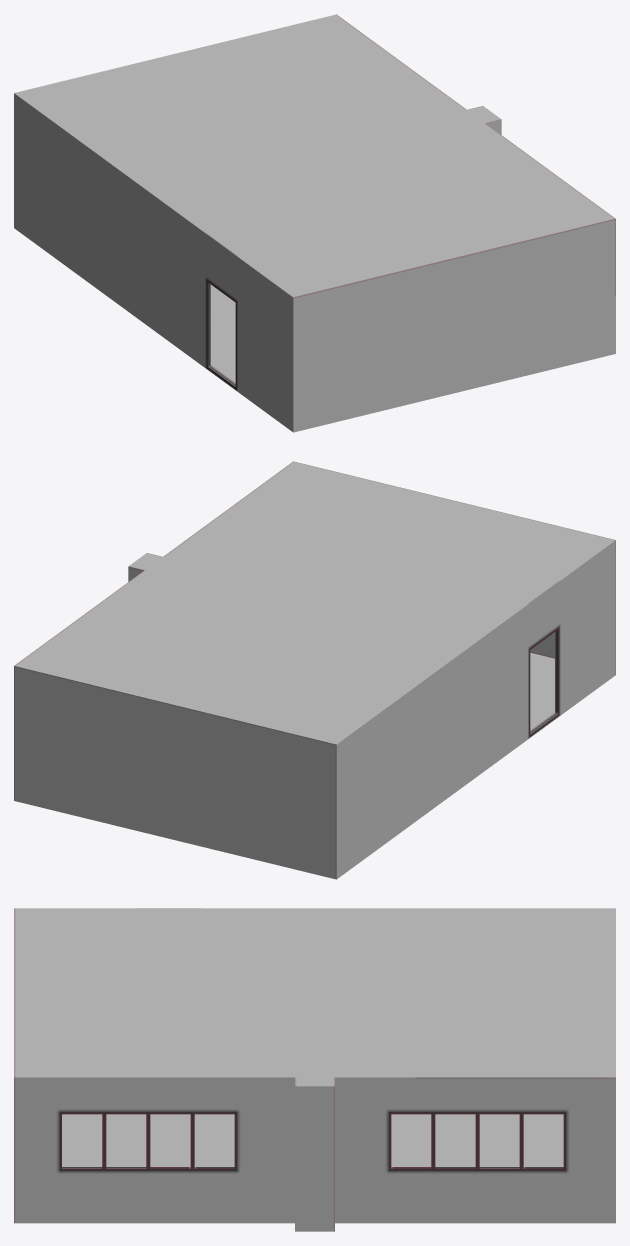
File: ClassRoom2_593.fbx
3 views of the same model, one above another, from view 1: azimuth 30°, elevation 25°; view 2: azimuth 150°, elevation 25°; view 3: azimuth 270°, elevation 25° (orthographic). The views are drawn at different scales.
Parts seen in each view (by area): view 1: ClassRoom2_593.001; view 2: ClassRoom2_593.001; view 3: ClassRoom2_593.001.
Part boxes in pixels (box(x1,y1,x2,y2)): ClassRoom2_593.001: box(14, 14, 615, 432); ClassRoom2_593.001: box(14, 461, 615, 879); ClassRoom2_593.001: box(14, 908, 615, 1231).
Bounding box in the file's own units: 10.5 × 4 × 15.
